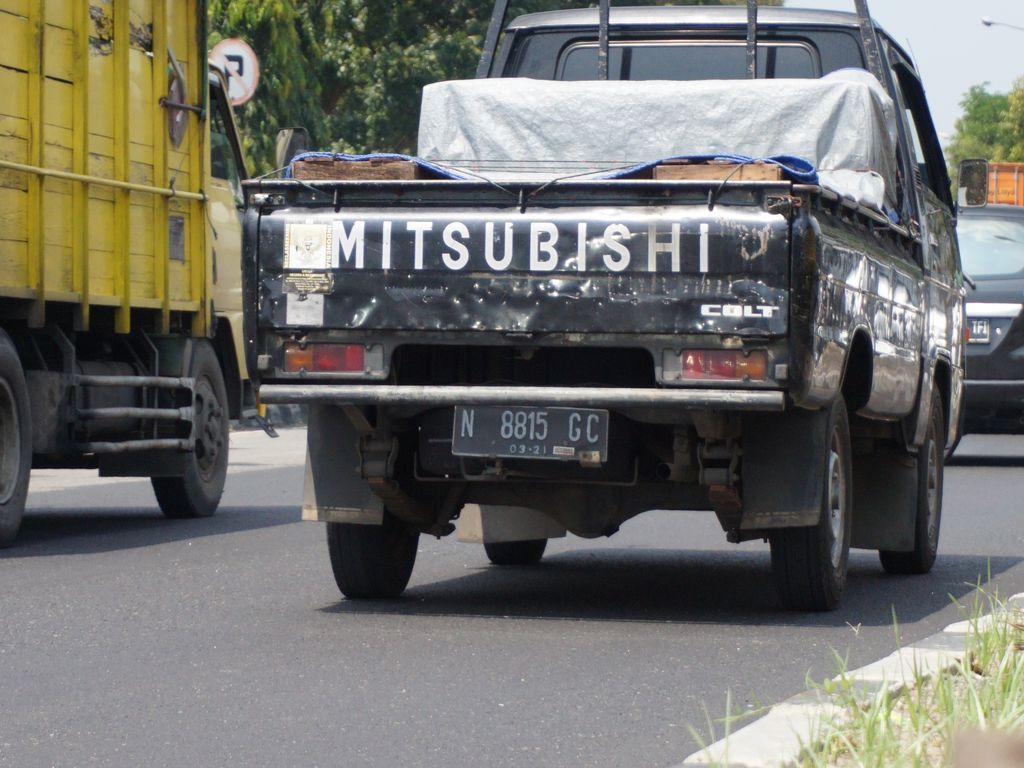plate: (457, 409, 600, 454)
